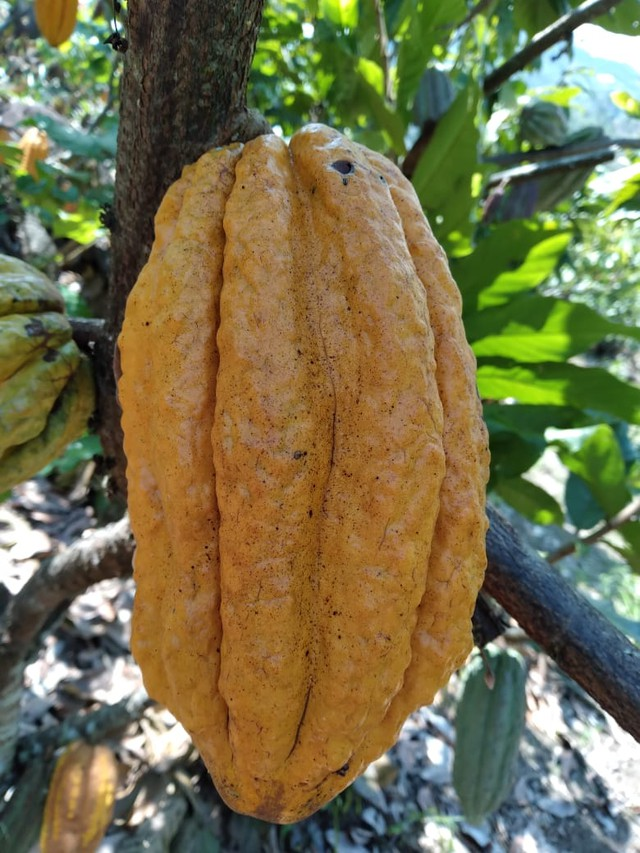Health: (107, 115, 506, 834)
